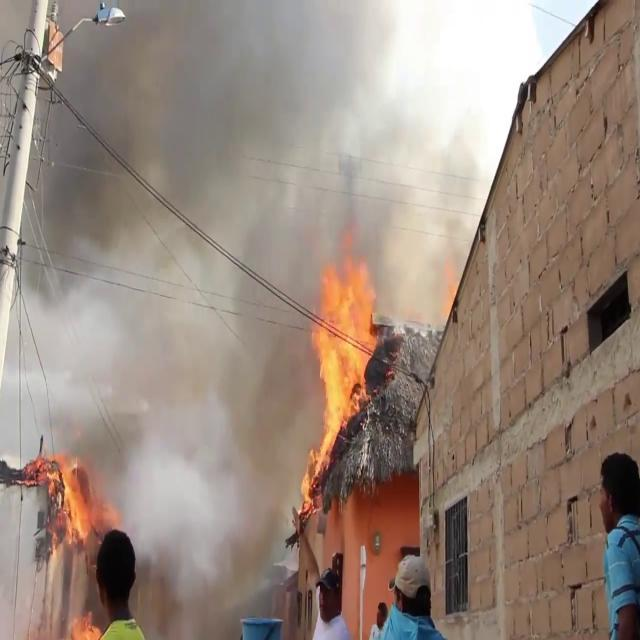Fire: (306, 247, 384, 457), (40, 448, 96, 558)
Smoke: (1, 2, 321, 520), (210, 1, 482, 315)
